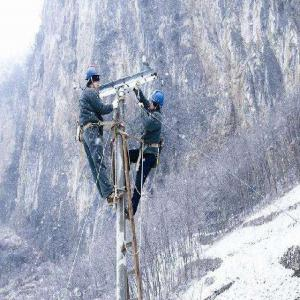blue: (85, 65, 101, 90), (150, 89, 166, 114)
